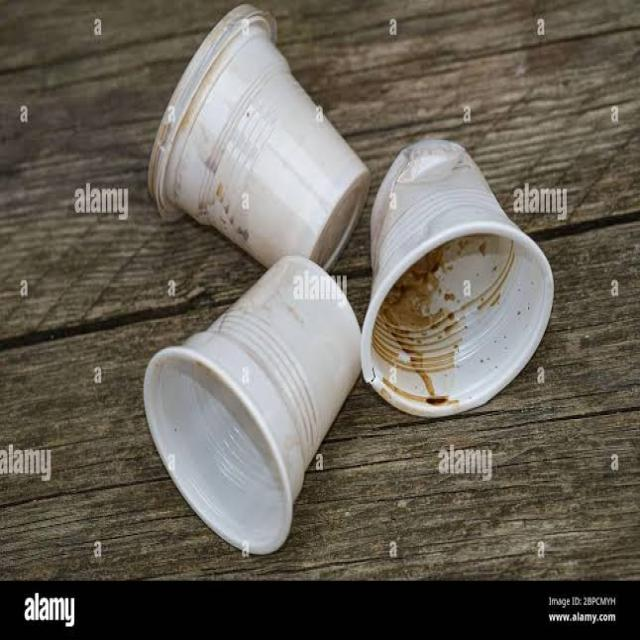plastic: (137, 249, 379, 571), (142, 0, 378, 282), (355, 126, 566, 425)
